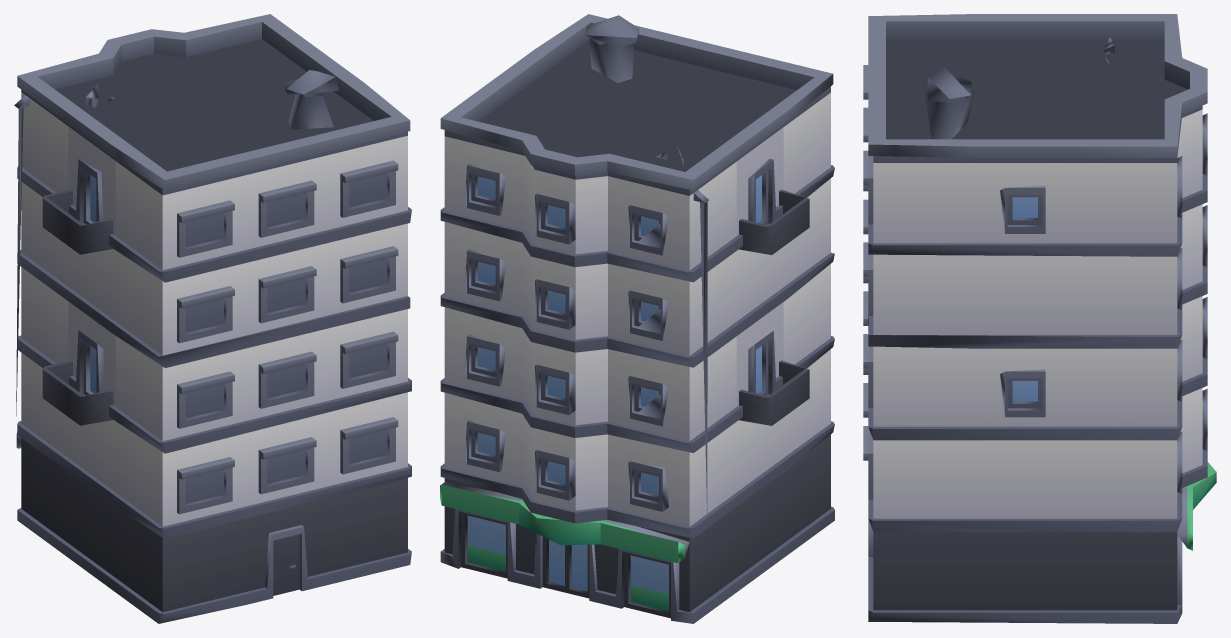
File: building-l.lod1.glb
3 views of the same model, side by side, from view 1: azimuth 30°, elevation 25°; view 2: azimuth 150°, elevation 25°; view 3: azimuth 270°, elevation 25° (orthographic). The views are drawn at different scales.
Visible parts, largest first — view 1: building-l; view 2: building-l; view 3: building-l.
Part boxes in pixels (box(x1,y1,x2,y2)): building-l: box(14, 14, 411, 623); building-l: box(440, 14, 834, 623); building-l: box(863, 14, 1216, 623).
Size of the model in its own units: 13.7 by 22.7 by 13.95.
1 material, 1 textured.
